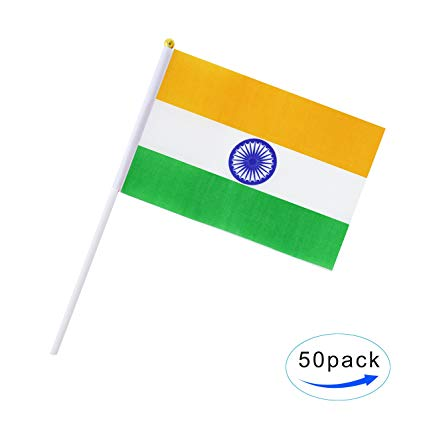flag: (109, 30, 387, 295)
